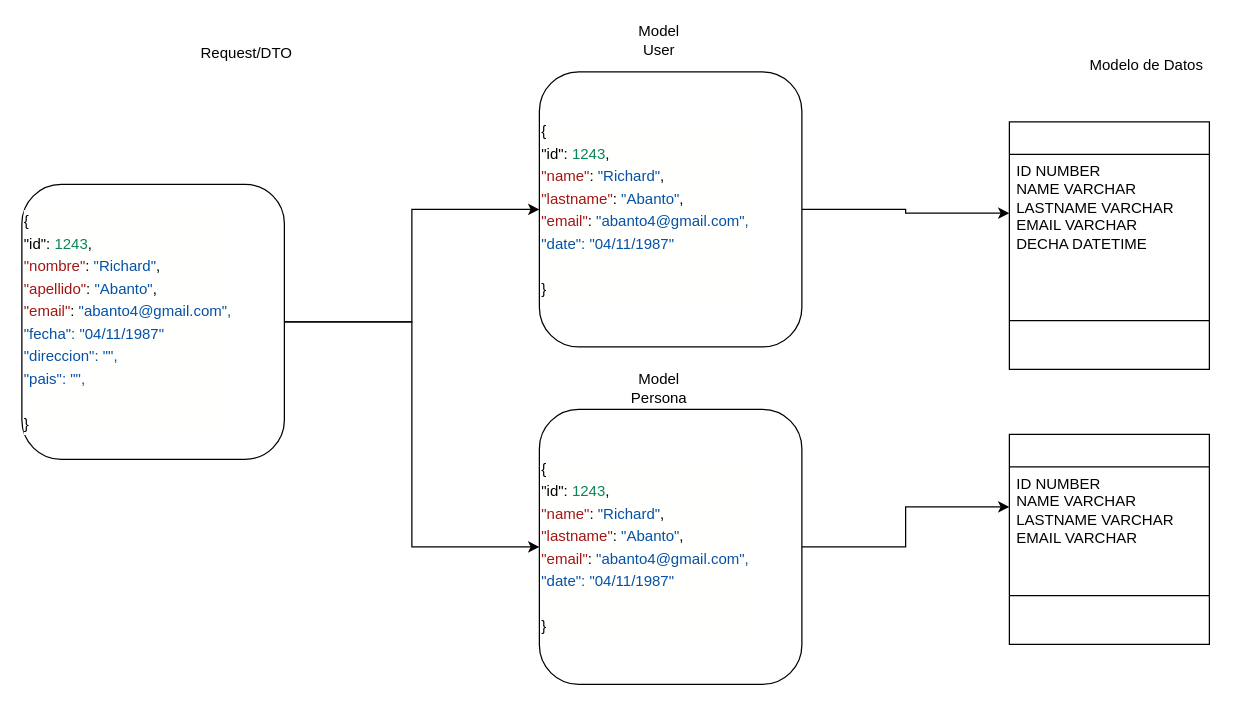
The diagram is 1244 pixels wide and 706 high, and some of its shapes have lost their labels. Each missing label, with the box of its shape:
PERSONA: (1008, 433, 1209, 644)
USER: (1008, 121, 1209, 369)
